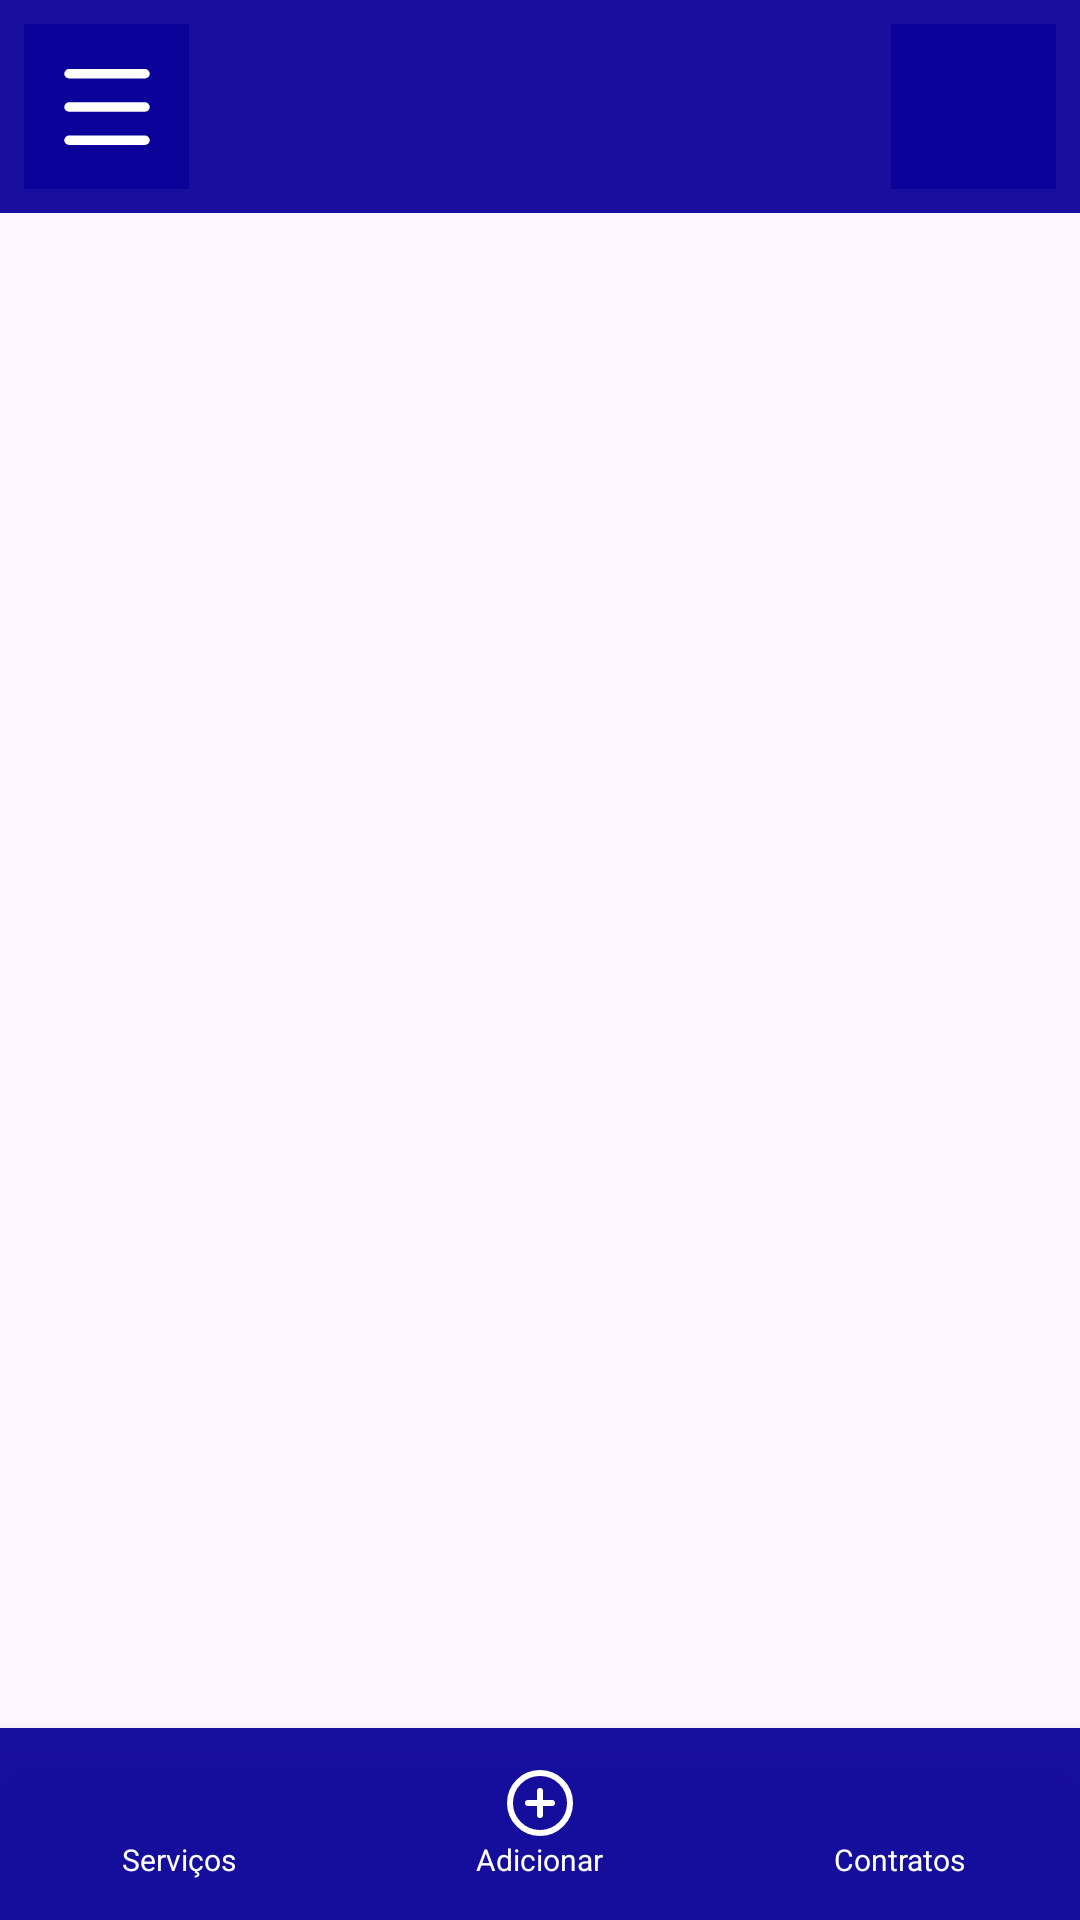

Where icons sit on this 1080px x 1920px app screen, as (x1, y1, x2, y2):
menu: (24, 24, 189, 189)
